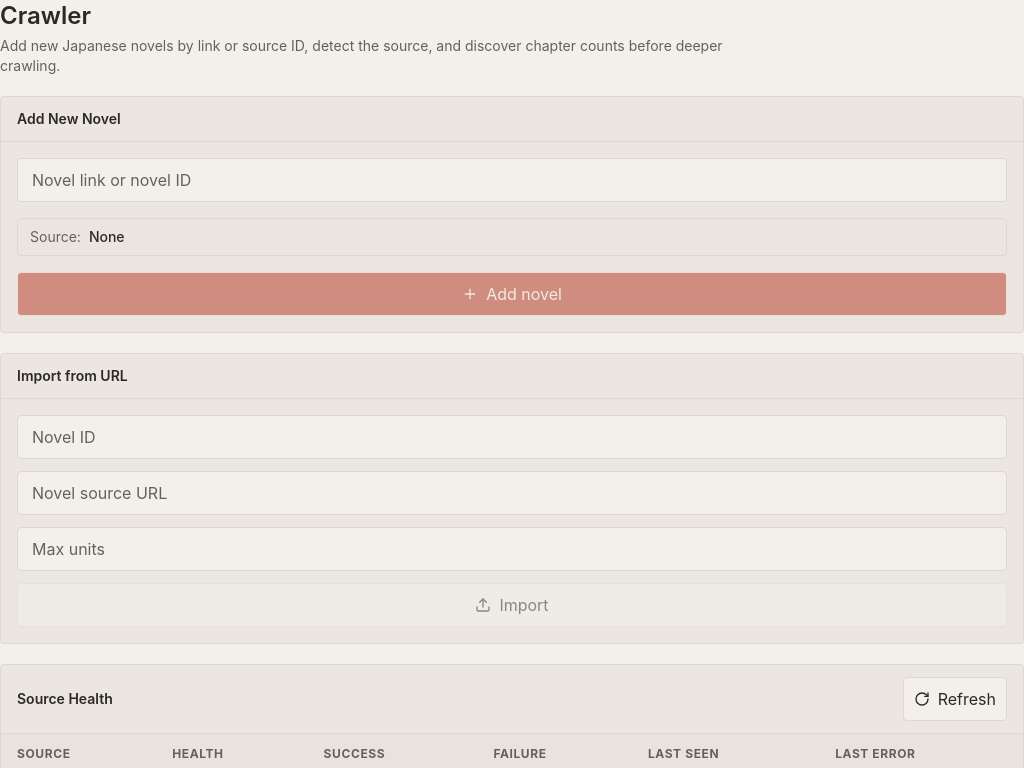
it: crawler error UX › CrawlerPage error dialog › displays friendly summary, collapsible details, and activity log button for SCRAPE_ACTIVITY_STILL_RUNNING
The width and height of the screenshot is (1024, 768).
Type "https://example.com/novel" into the field with placeholder "Novel link or novel ID" at (512, 180), box [17, 158, 1007, 202]
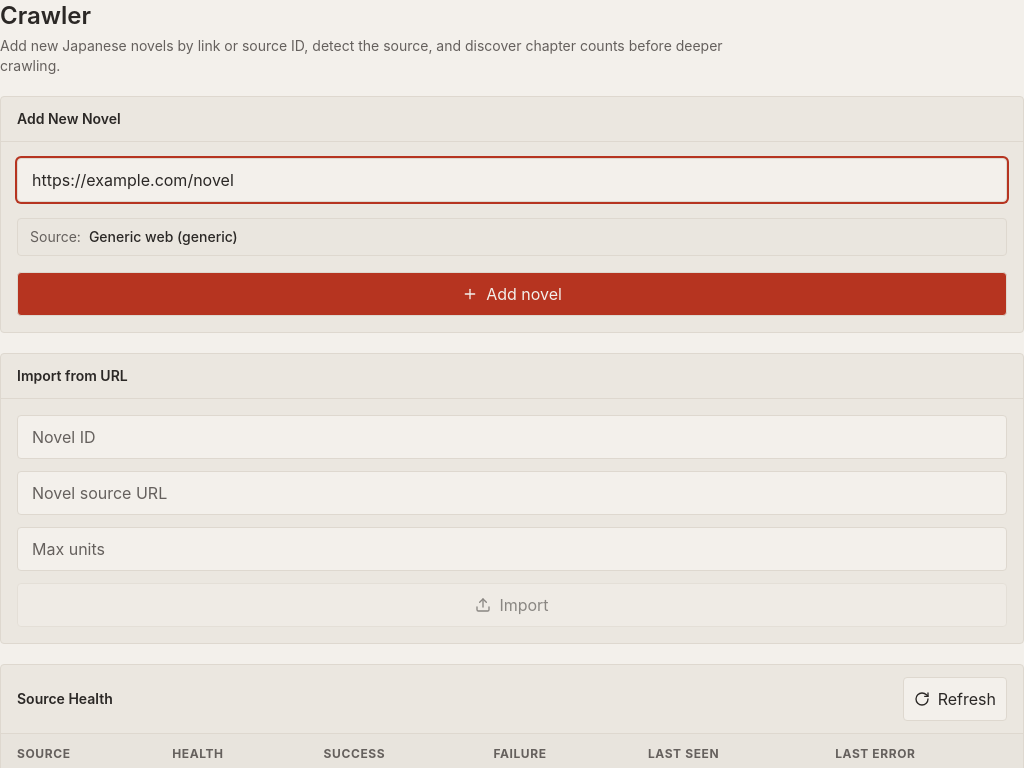
Click the button "Add novel" at (512, 294), box [17, 272, 1007, 316]
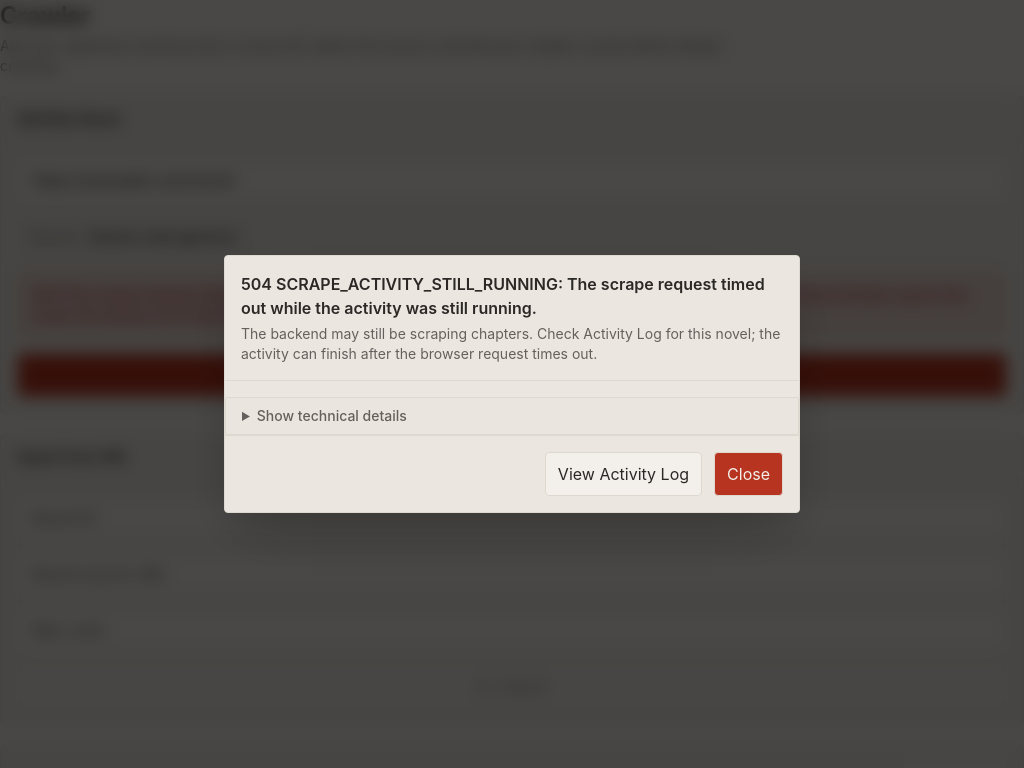
Now the dialog is shown, box [224, 255, 800, 513]
Now the dialog shows "the backend may still be scraping chapters", box [241, 325, 780, 362]
Now the heading "Show technical details" is shown, box [257, 407, 407, 424]
